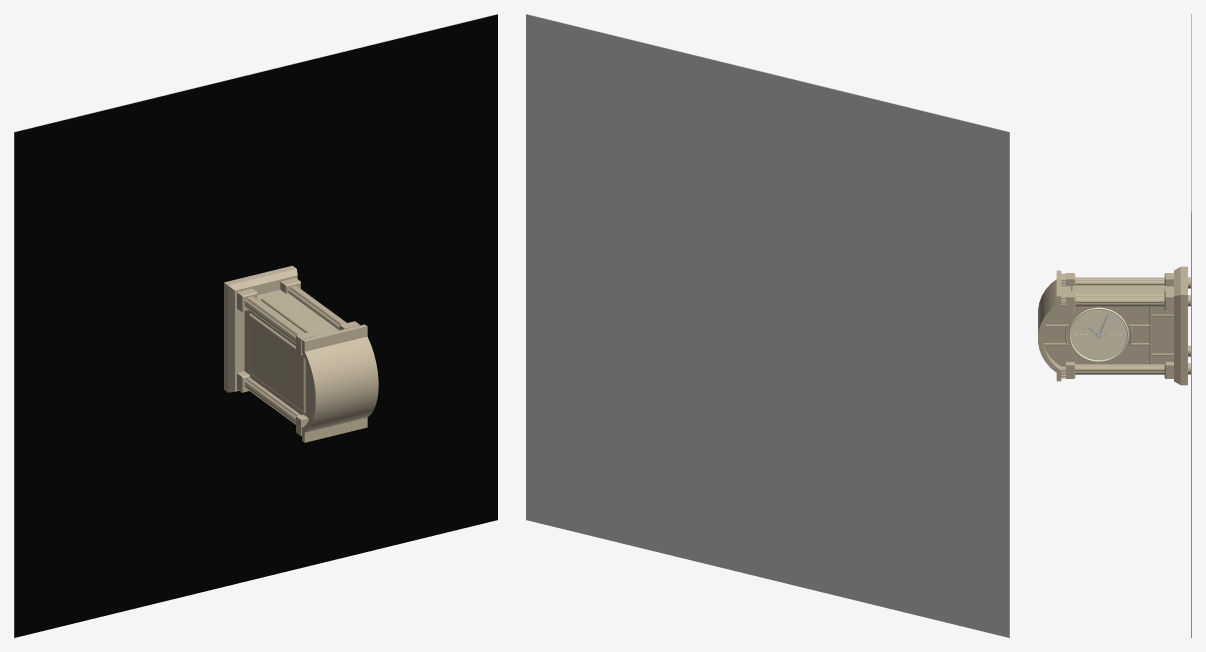
Rendered from clock.glb.
3 renders of one model, left to right at view 1: azimuth 30°, elevation 25°; view 2: azimuth 150°, elevation 25°; view 3: azimuth 270°, elevation 25°, orthographic. The views are drawn at different scales.
Parts seen in each view (by area): view 1: root; view 2: root; view 3: root.
Boxes of the visible parts, left/top/right/bottom form: root: left=14, top=14, right=497, bottom=637; root: left=526, top=14, right=1009, bottom=637; root: left=1038, top=14, right=1191, bottom=637.
Bounding box in the file's own units: 2 × 2 × 0.6557.
